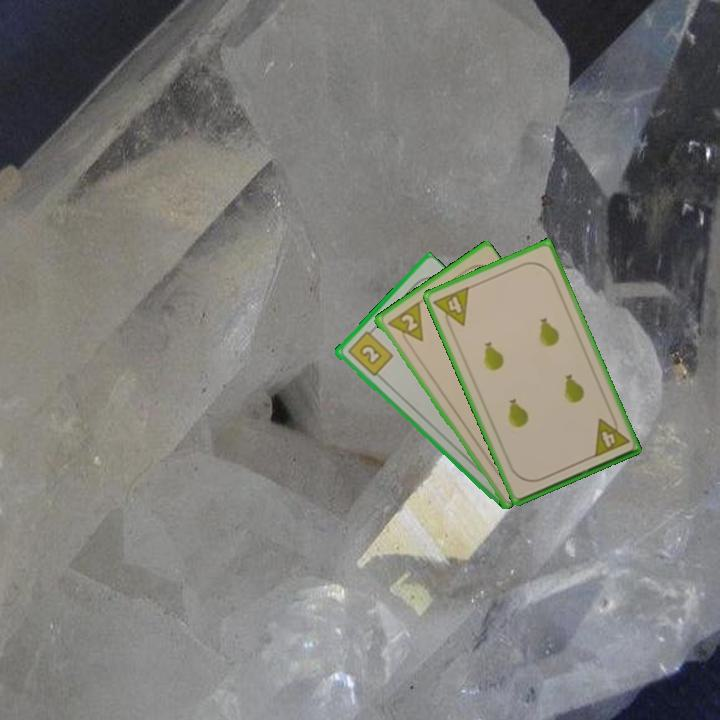2b: (344, 324, 395, 379)
2p: (383, 299, 426, 350)
4p: (430, 283, 472, 334), (590, 411, 632, 460)
